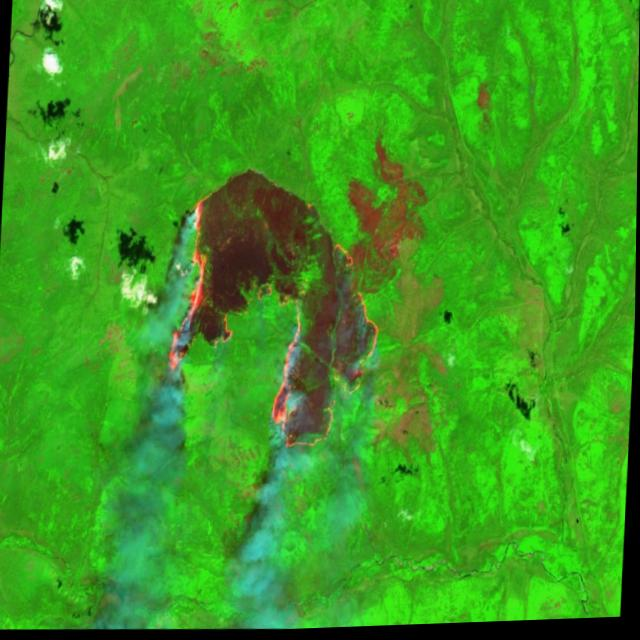fire: (160, 181, 387, 471)
